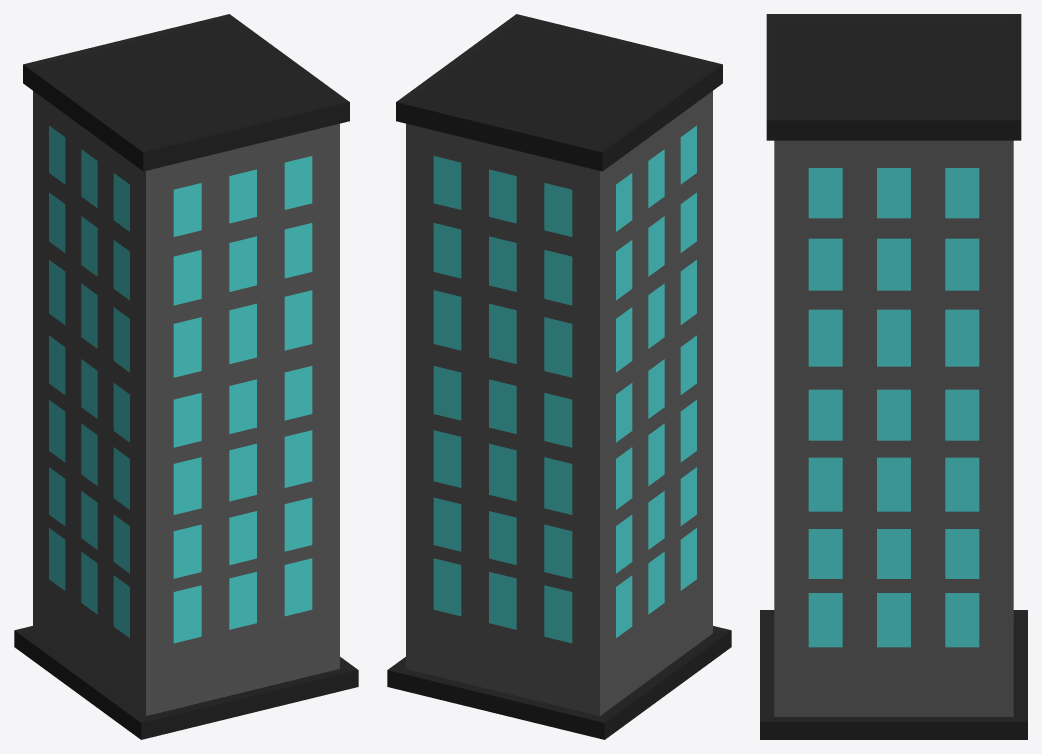
File: Skyscraper2.fbx
3 views of the same model, side by side, from view 1: azimuth 30°, elevation 25°; view 2: azimuth 150°, elevation 25°; view 3: azimuth 270°, elevation 25° (orthographic). The views are drawn at different scales.
Parts seen in each view (by area): view 1: Cube.005; view 2: Cube.005; view 3: Cube.005.
Boxes of the visible parts, left/top/right/bottom form: Cube.005: left=14, top=14, right=358, bottom=739; Cube.005: left=387, top=14, right=731, bottom=739; Cube.005: left=760, top=14, right=1027, bottom=739.
Size of the model in its own units: 4096 by 10518 by 4139.
